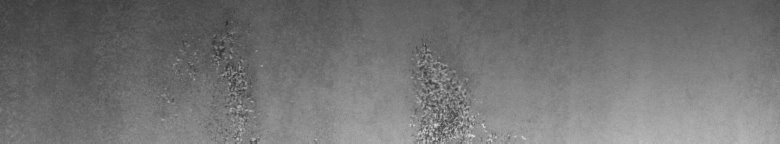hc: (406, 41, 496, 136)
